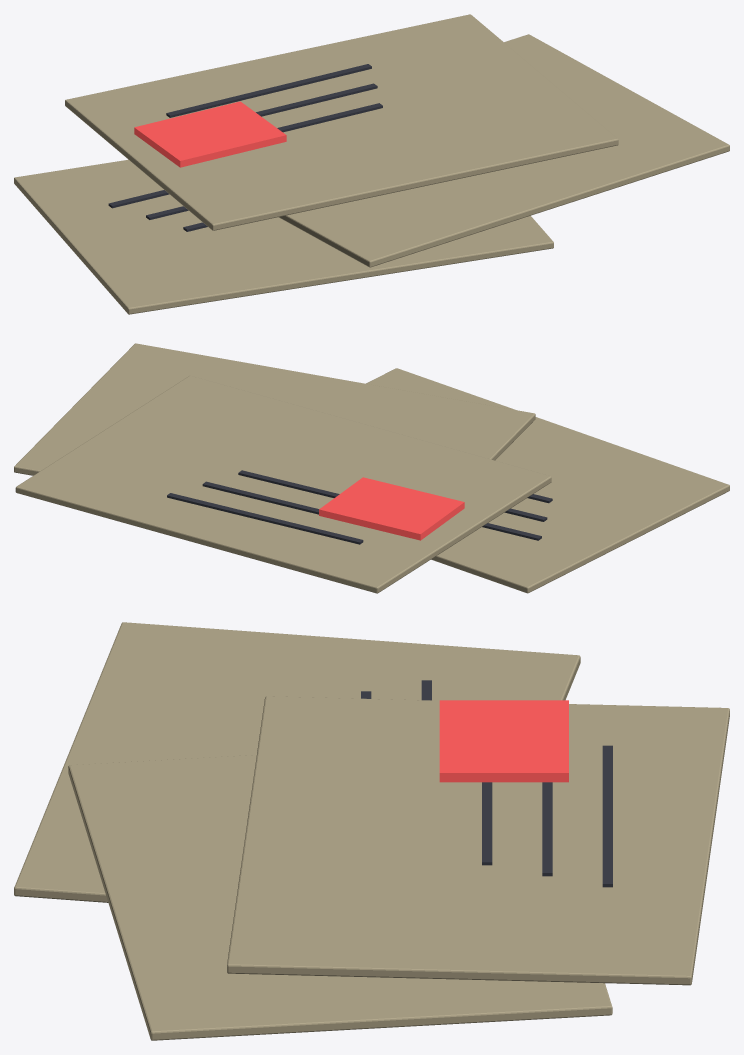
Rendered from paperwork_scattered.glb.
3 views of the same model, one above another, from view 1: azimuth 30°, elevation 25°; view 2: azimuth 150°, elevation 25°; view 3: azimuth 270°, elevation 25° (orthographic). The views are drawn at different scales.
Parts seen in each view (by area): view 1: paperwork_scattered; view 2: paperwork_scattered; view 3: paperwork_scattered.
Part boxes in pixels (x1,y1,x2,y2): paperwork_scattered: (14, 14, 729, 314); paperwork_scattered: (14, 343, 729, 593); paperwork_scattered: (14, 622, 729, 1040).
Size of the model in its own units: 0.5758 by 0.028 by 0.415.
